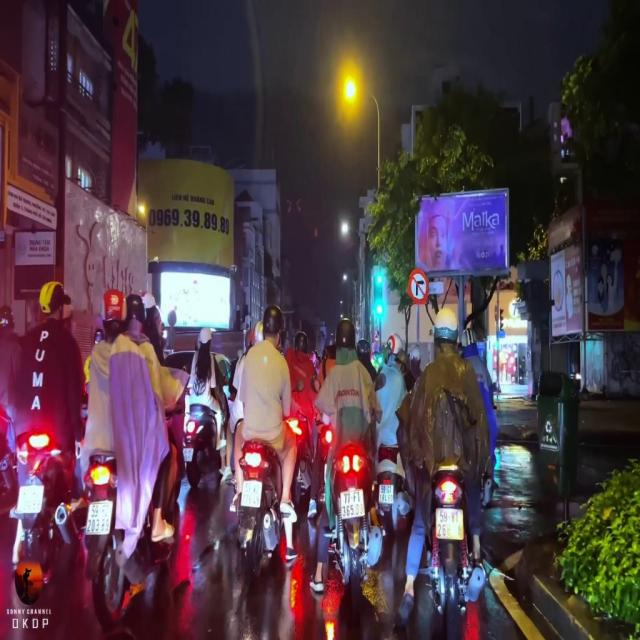cam_re_phai: (406, 267, 429, 304)
